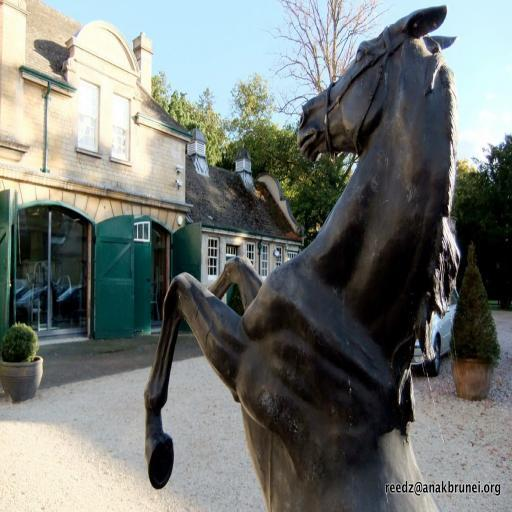horse: (144, 8, 457, 512)
